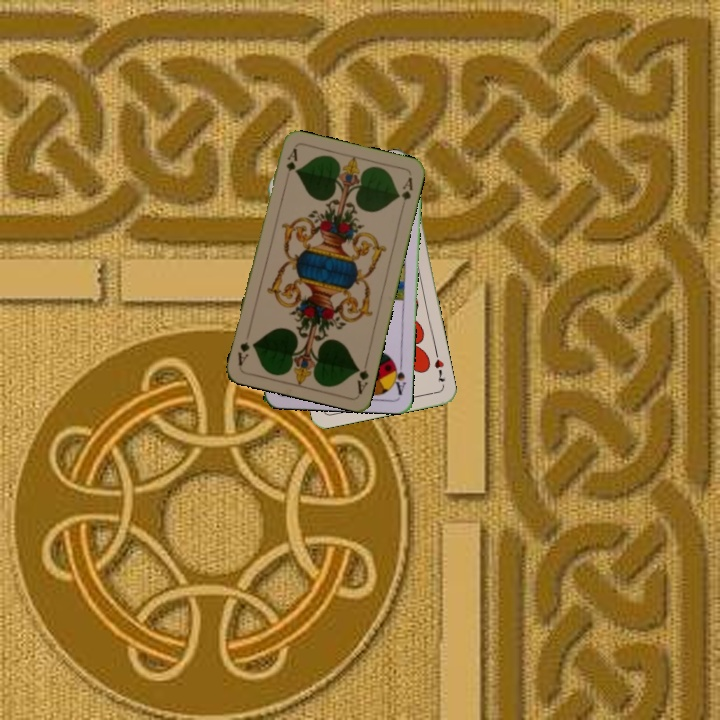GA: (353, 355, 371, 396), (282, 145, 300, 174)
H7: (430, 348, 448, 385)
SA: (388, 357, 408, 397)
